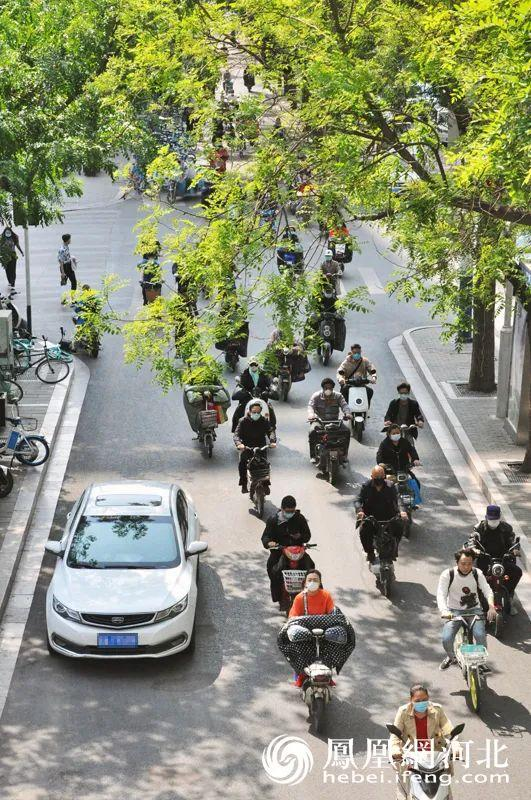target: (276, 569, 357, 735), (434, 549, 501, 711), (386, 684, 465, 794), (352, 464, 407, 595), (261, 497, 317, 611), (473, 506, 525, 615), (310, 378, 357, 485), (234, 404, 284, 495), (382, 423, 424, 523)
